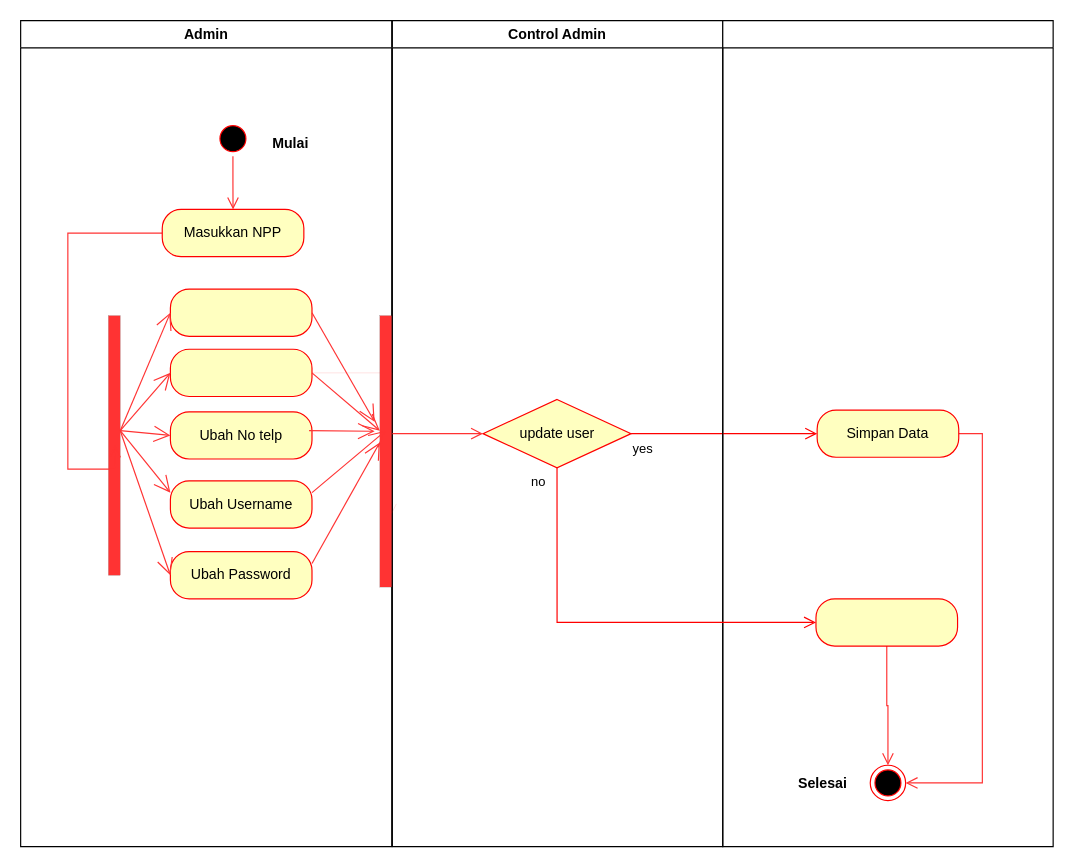
Some shapes in this 1074 by 867 pixel diagram are drawn without their labels. Each missing label, with the box of its shape:
Aplikasi ATM: (722, 19, 1053, 847)
Menu Update User: (815, 598, 958, 646)
Ubah Alamat: (169, 348, 312, 396)
Ubah Nama: (169, 288, 312, 336)
